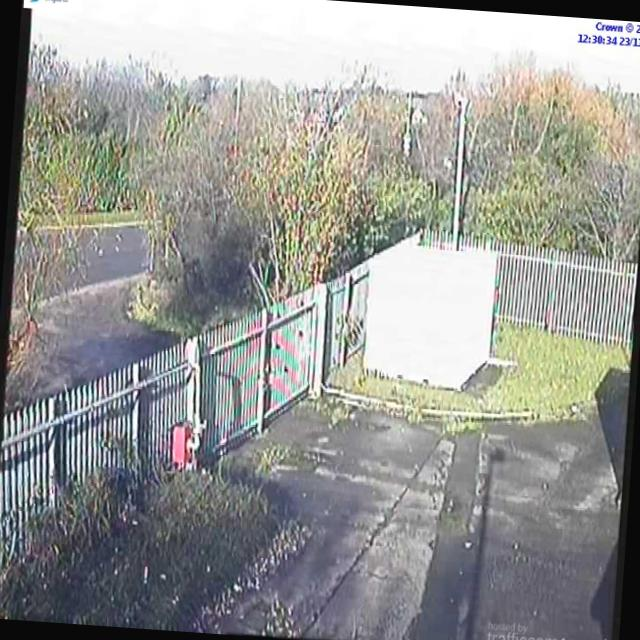foliage: (149, 88, 446, 331), (7, 48, 118, 373), (465, 68, 640, 259), (19, 45, 202, 223)
